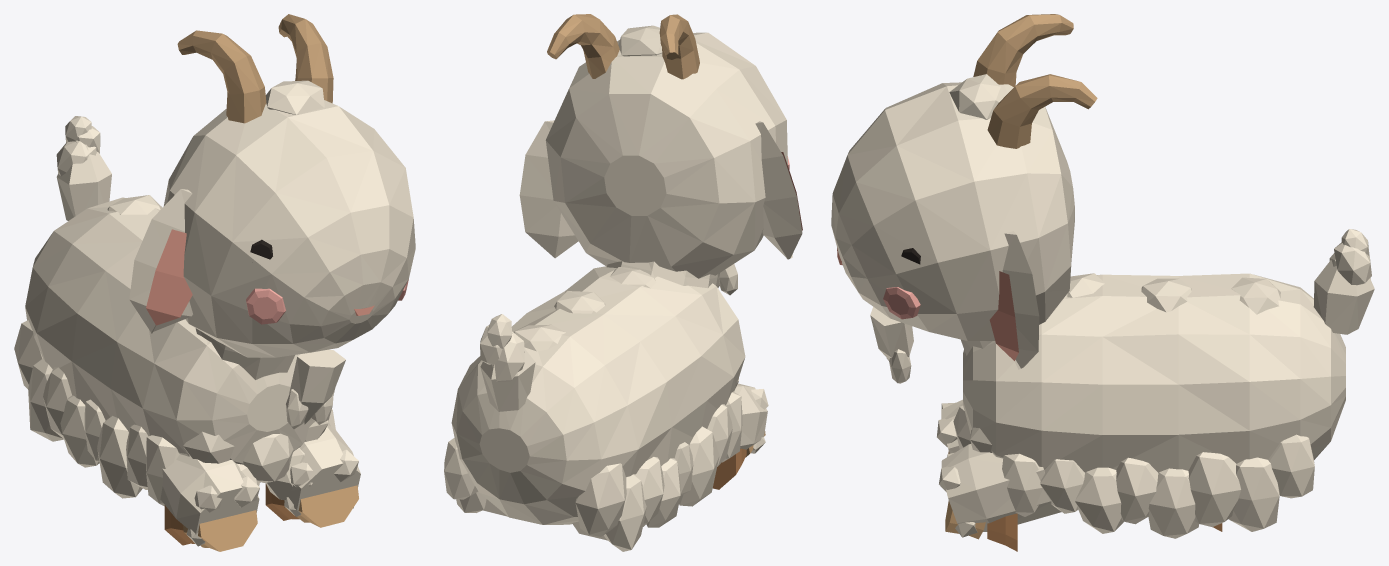
File: goat-rest.glb
3 views of the same model, side by side, from view 1: azimuth 30°, elevation 25°; view 2: azimuth 150°, elevation 25°; view 3: azimuth 270°, elevation 25° (orthographic). The views are drawn at different scales.
Visible parts, largest first — view 1: head, body, leg_front_R_upper, tail, horn_R, leg_front_L_upper, beard, ear_R, ear_inner_R, horn_L, leg_front_L_lower, leg_front_R_lower (+4 smaller); view 2: body, head, ear_L, tail, ear_R, horn_L, horn_R, leg_front_R_upper, neck, leg_front_R_hoof, beard; view 3: body, head, leg_front_L_upper, tail, horn_L, horn_R, ear_L, beard, ear_inner_L, cheek_L, leg_front_R_upper, leg_front_L_hoof.
Part boxes in pixels (x1,y1,x2,y2): head: [163, 80, 415, 357]; body: [14, 195, 335, 506]; leg_front_R_upper: [145, 454, 259, 546]; tail: [56, 116, 111, 220]; horn_R: [177, 30, 266, 123]; leg_front_L_upper: [284, 424, 360, 516]; beard: [286, 349, 345, 429]; ear_R: [129, 189, 192, 333]; ear_inner_R: [146, 229, 192, 325]; horn_L: [278, 14, 333, 103]; leg_front_L_lower: [283, 485, 358, 527]; leg_front_R_lower: [183, 510, 257, 551]; body: [444, 266, 745, 551]; head: [545, 25, 787, 278]; ear_L: [519, 120, 578, 258]; tail: [480, 314, 535, 411]; ear_R: [755, 121, 802, 259]; horn_L: [547, 14, 619, 78]; horn_R: [659, 14, 699, 79]; leg_front_R_upper: [734, 383, 768, 453]; neck: [607, 261, 717, 288]; leg_front_R_hoof: [713, 448, 746, 489]; beard: [716, 264, 737, 295]; body: [953, 273, 1345, 538]; head: [831, 74, 1074, 340]; leg_front_L_upper: [939, 444, 1061, 537]; tail: [1313, 229, 1374, 334]; horn_L: [987, 74, 1097, 148]; horn_R: [973, 14, 1073, 86]; ear_L: [1002, 231, 1039, 369]; beard: [870, 307, 913, 383]; ear_inner_L: [989, 271, 1018, 360]; cheek_L: [883, 287, 920, 319]; leg_front_R_upper: [937, 399, 962, 453]; leg_front_L_hoof: [987, 513, 1017, 551].
Size of the model in its own units: 0.6187 by 1.08 by 1.07.
